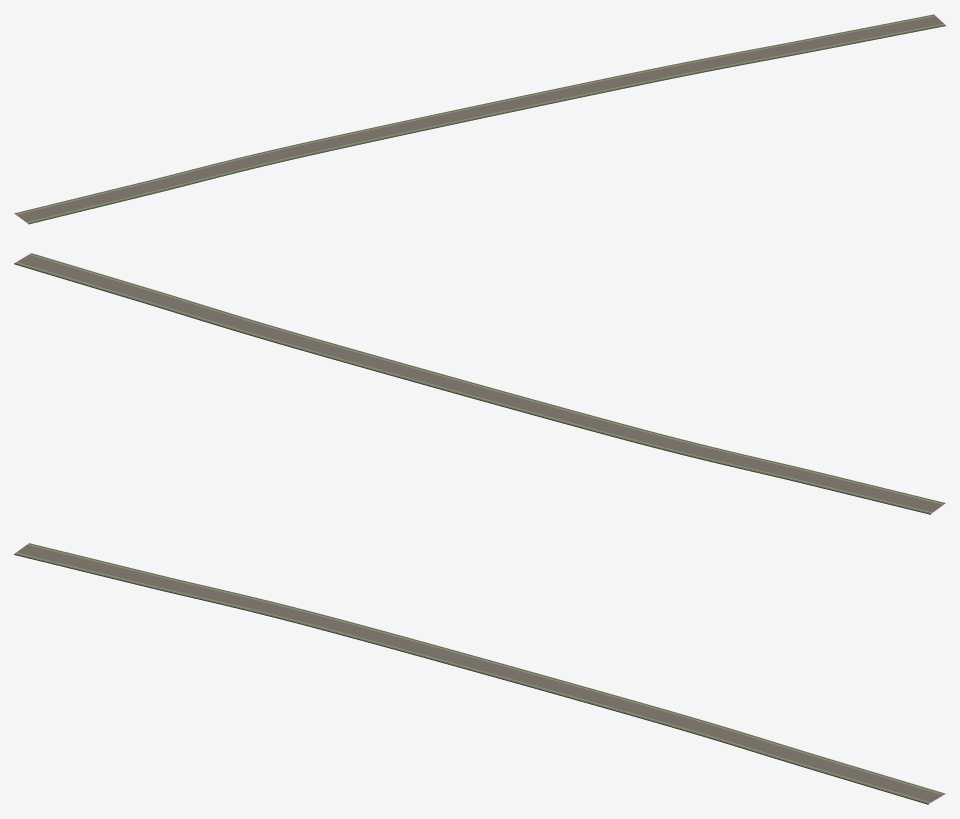
Rendered from road_roam_to_autumn_summit.glb.
The picture shows the model from 3 angles, top to bottom: view 1: azimuth 30°, elevation 25°; view 2: azimuth 150°, elevation 25°; view 3: azimuth 330°, elevation 25°; orthographic projection. The views are drawn at different scales.
Visible parts, largest first — view 1: road; view 2: road; view 3: road.
Boxes of the visible parts, box(x1,y1,x2,y2) form: road: box(14, 14, 945, 224); road: box(14, 253, 945, 514); road: box(14, 543, 945, 804).
Bounding box in the file's own units: 434 × 0.32 × 34.52.
